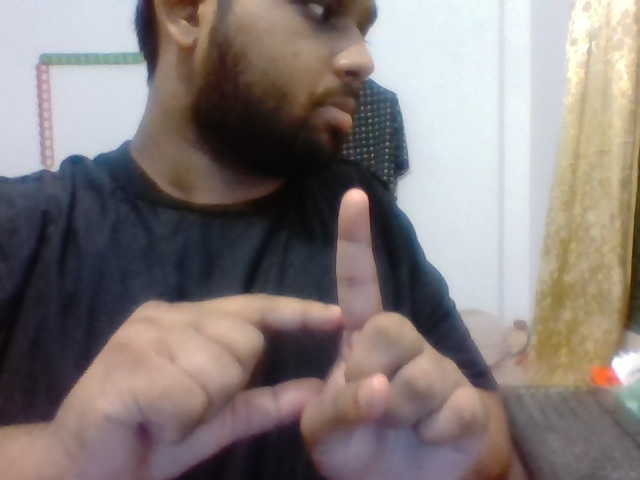D: (91, 177, 494, 480)
